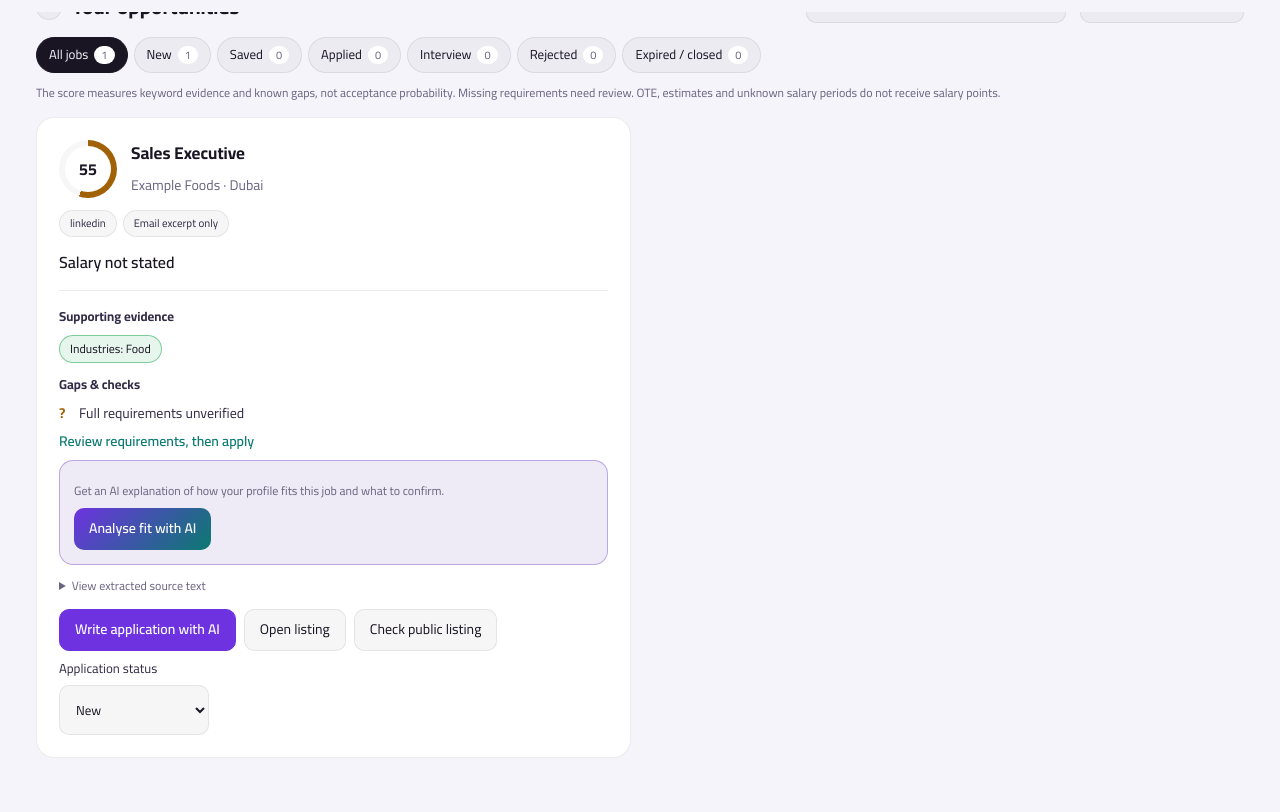
Test: Career assistant › explains AI failures instead of showing a generic server error
(page scrolled)
Expected: the heading "Sales Executive" is shown, [131,141,263,166]
Click the button "Analyse fit with AI" at point(143, 529), box [74,508,211,550]
(page scrolled)
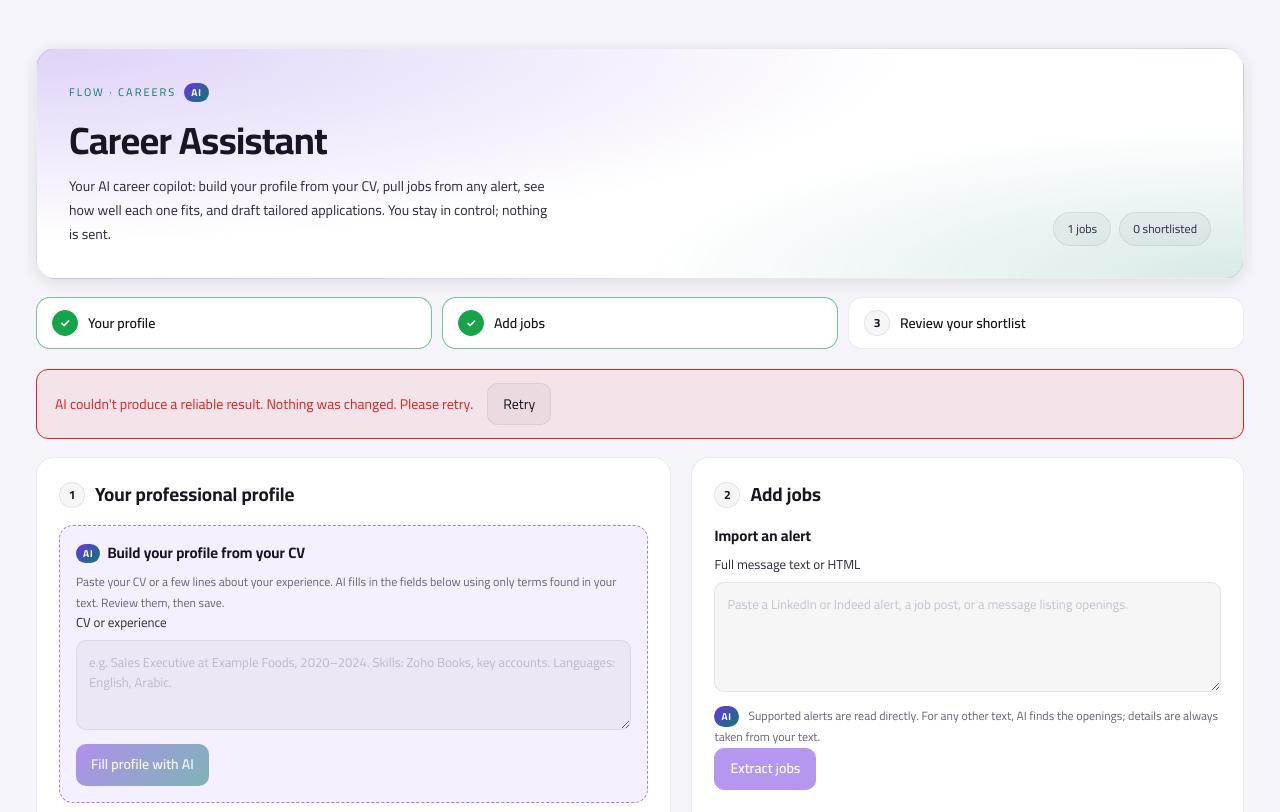
Result: the message shows "AI couldn't produce a reliable result" at [55,391,473,417]
